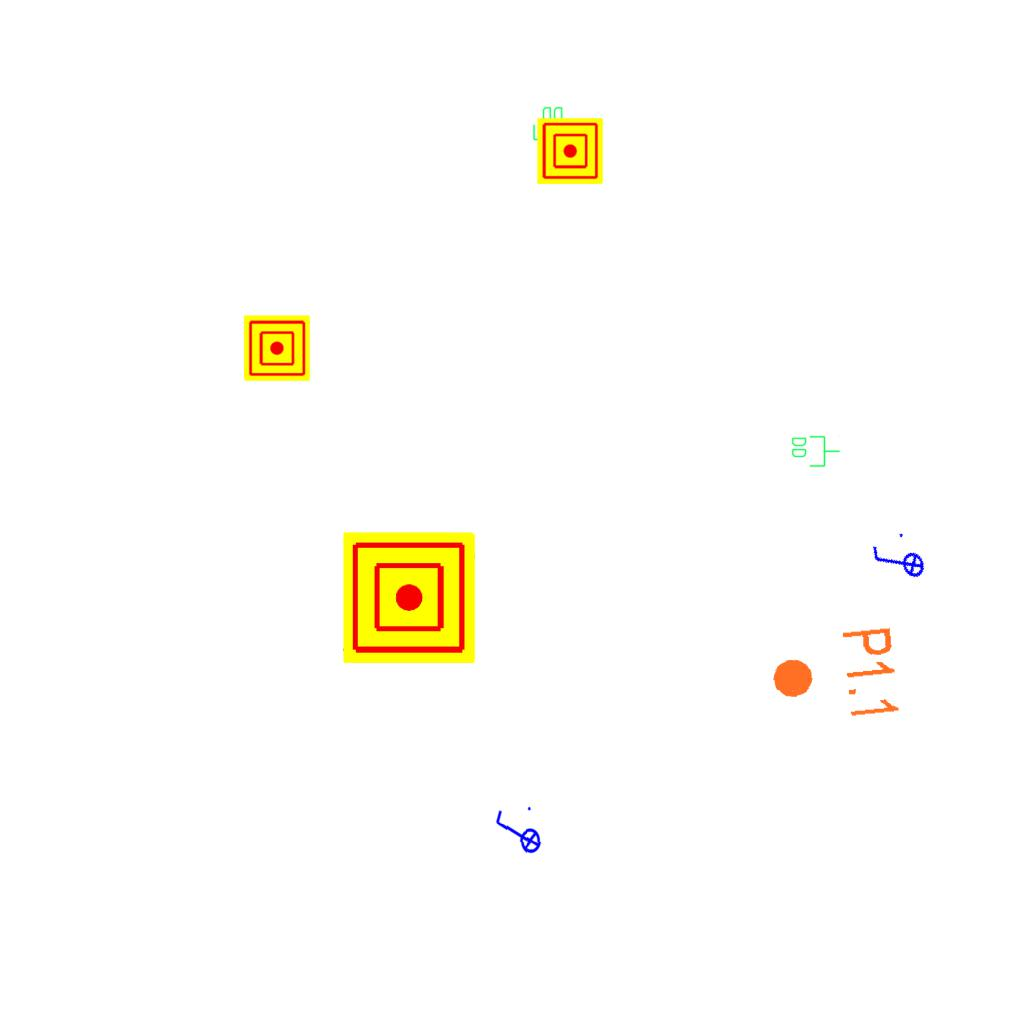Ausschalter_beleuchtet: (864, 526, 932, 598), (491, 803, 543, 863)
Datenanschluss_zweifach: (532, 105, 566, 156), (790, 434, 841, 468)
Downlight_LED_Einbauleuchten_Flur: (765, 624, 904, 730)
NAM-Nichtautomatischer_Melder: (343, 532, 475, 664), (244, 315, 310, 381), (537, 118, 603, 184)
